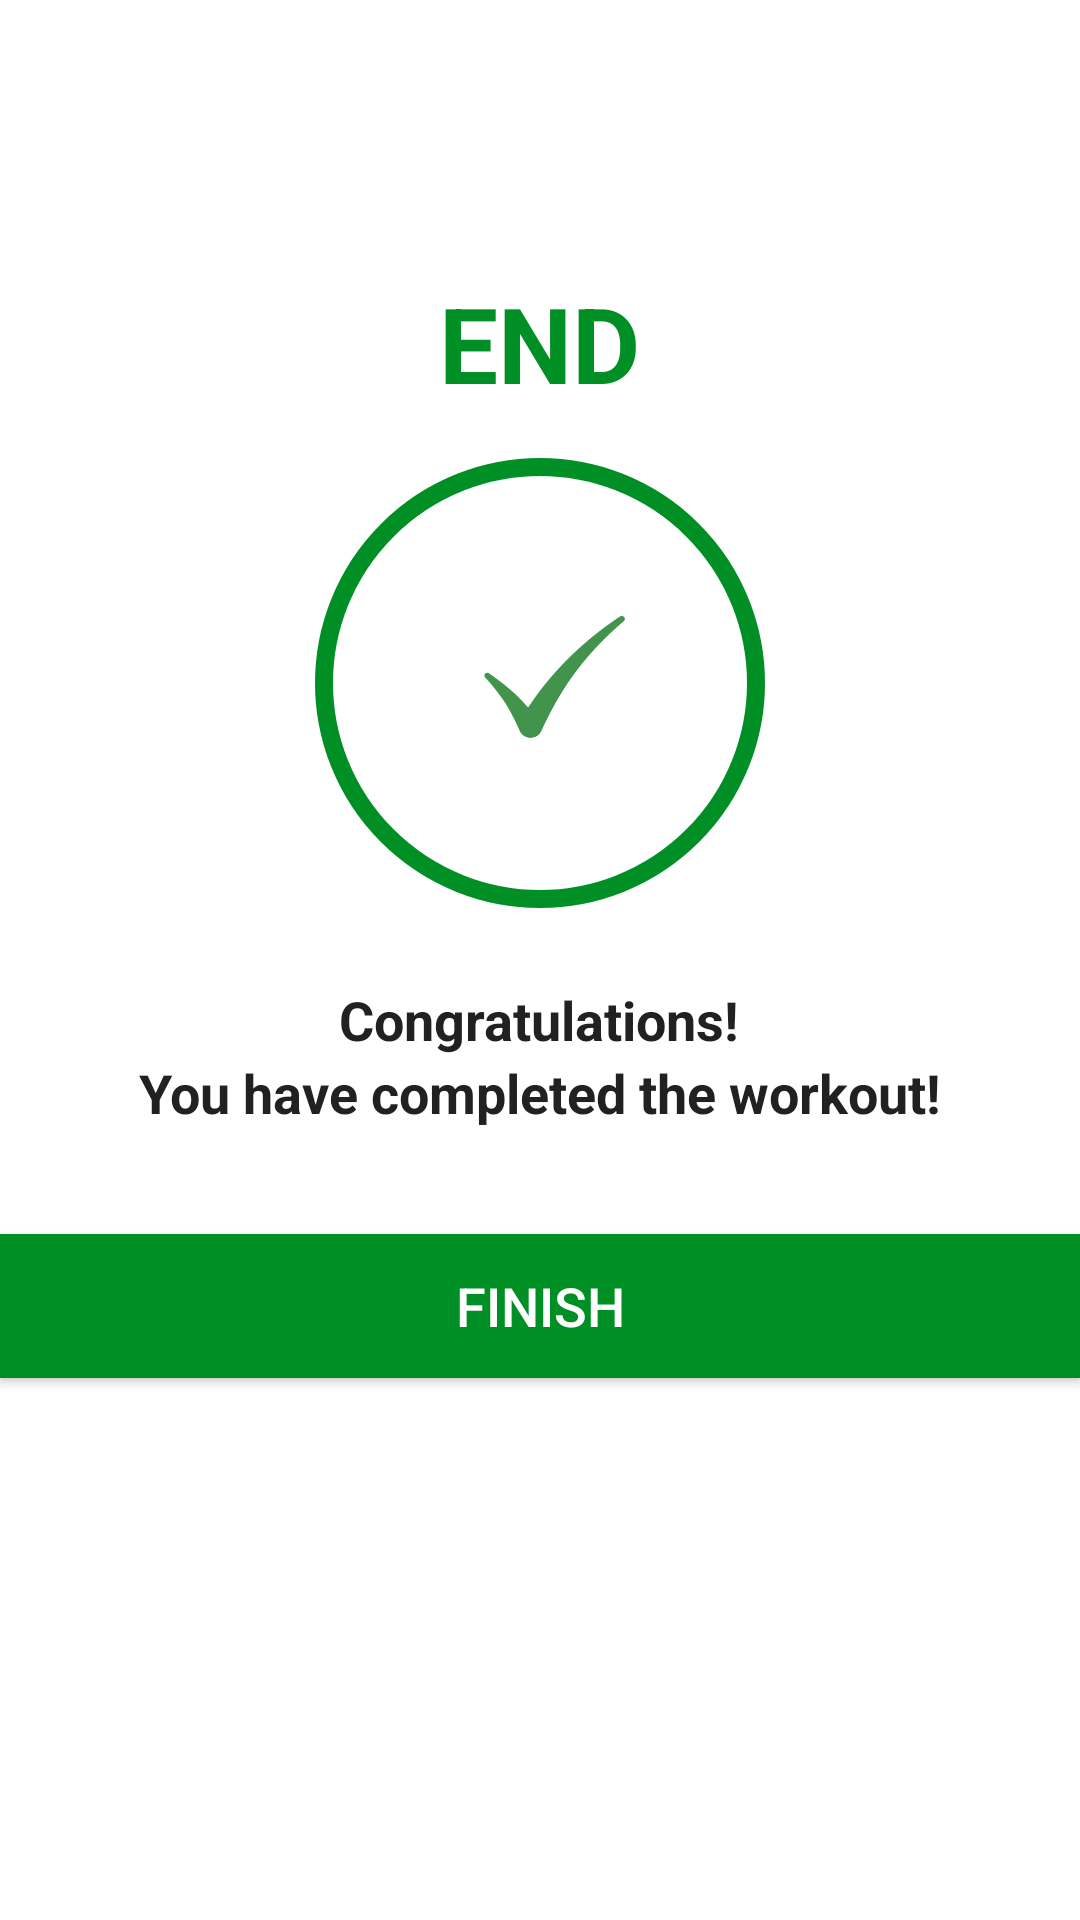

Locate icon controls on the screen. Image size 1080x1920, boxes as (x1, y1, x2, y2).
done: (484, 616, 625, 738)
